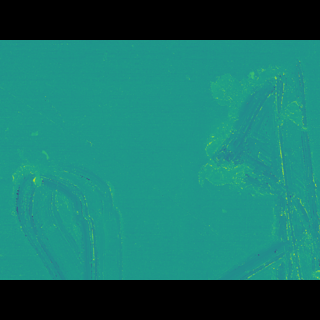Loch: (194, 81, 320, 250), (7, 157, 129, 250)
